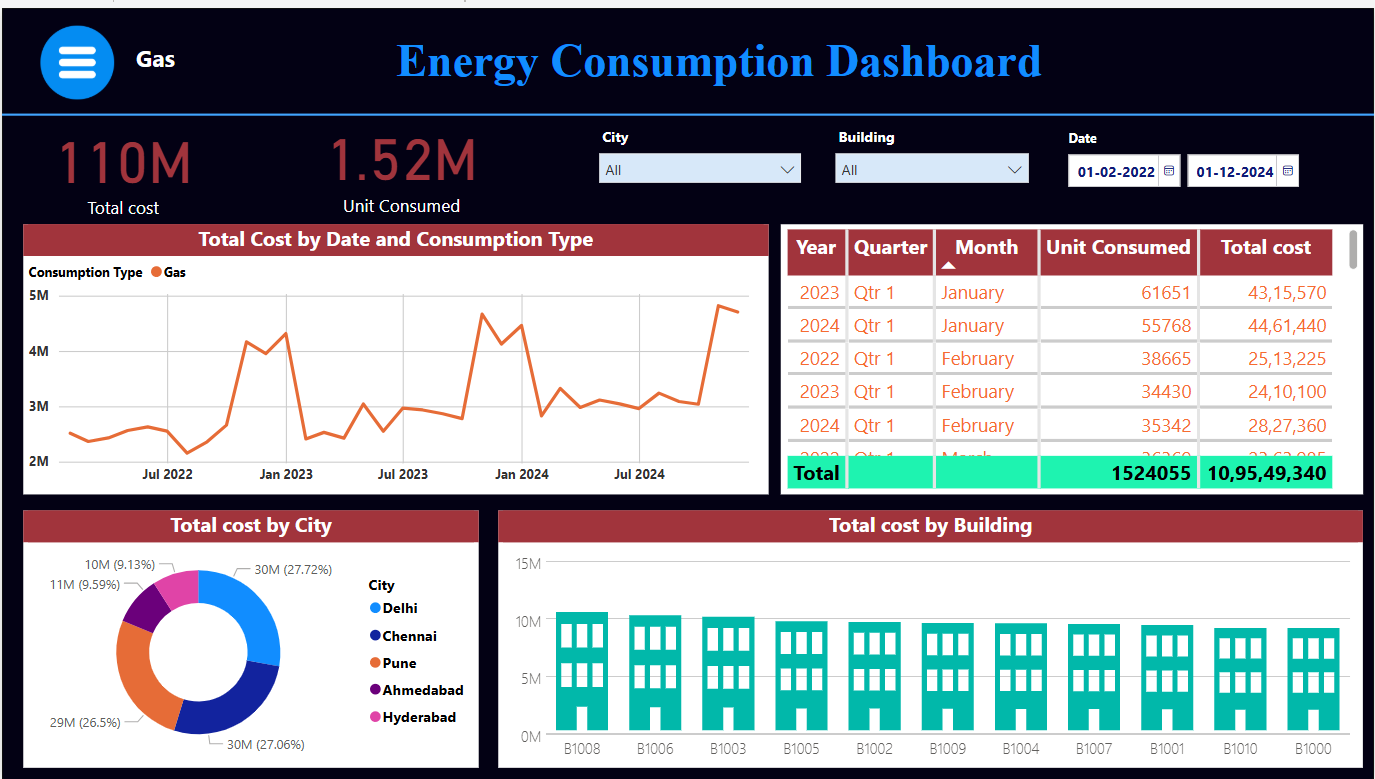

What the dashboard file says about the page in this screenshot:
{"tool":"powerbi","page":{"name":"Gas","canvas":[1280,720],"ordinal":3},"visuals":[{"type":"shape","box":[0,81.4,1280,35.7],"z":0},{"type":"image","box":[20,11.4,100,78.6],"z":1000},{"type":"textbox","box":[280,20,778.3,60],"z":2000},{"type":"textbox","box":[120,26.7,160,45],"z":3000},{"type":"card","fields":{"Values":["Energy Consumption.Total cost"]},"box":[0,95,226.7,106.7],"z":4000},{"type":"card","fields":{"Values":["Energy Consumption.Unit Consumed"]},"box":[265,90,216.7,111.7],"z":5000},{"type":"slicer","fields":{"Values":["Energy Consumption.Building"]},"box":[766.7,106.7,200,78.3],"z":6000},{"type":"slicer","fields":{"Values":["Building Master.City"]},"box":[546.7,106.7,208.3,78.3],"z":7000},{"type":"slicer","fields":{"Values":["Energy Consumption.Date"]},"box":[981.7,108.3,298.3,63.3],"z":8000},{"type":"donutChart","fields":{"Y":["Energy Consumption.Total cost"],"Category":["Building Master.City"]},"box":[20,468.3,425,240],"z":9000},{"type":"PBI_CV_73744D90_4DC9_4F18_8BA5_EE8FA5C98035","fields":{"Category":["Building Master.Building"],"Values":["Energy Consumption.Total cost"]},"box":[463.3,468.3,806.7,240],"z":10000},{"type":"lineChart","title":"Total Cost by Date and Consumption Type","fields":{"Category":["Energy Consumption.Date"],"Y":["Energy Consumption.Total cost"],"Series":["Energy Consumption.Consumption Type"]},"box":[20,201.7,695,251.7],"z":11000},{"type":"tableEx","title":"Total Cost by Date and Consumption Type","fields":{"Values":["Energy Consumption.Date.Variation.Date Hierarchy.Year","Energy Consumption.Date.Variation.Date Hierarchy.Quarter","Energy Consumption.Date.Variation.Date Hierarchy.Month","Energy Consumption.Unit Consumed","Energy Consumption.Total cost"]},"box":[726.7,201.7,543.3,251.7],"z":12000},{"type":"actionButton","box":[29.8,11.3,83.6,79.4],"z":15000}]}

Visuals, with their boxes in screenshot pixels (x1, y1, x2, y2), scaled from the page's 1280x720 canvas onto the 1375x779 screenshot:
shape: bbox=[0, 88, 1374, 127]
image: bbox=[21, 12, 129, 97]
textbox: bbox=[301, 22, 1137, 87]
textbox: bbox=[129, 29, 301, 78]
card - Energy Consumption.Total cost: bbox=[0, 103, 244, 218]
card - Energy Consumption.Unit Consumed: bbox=[285, 97, 517, 218]
slicer - Energy Consumption.Building: bbox=[824, 115, 1038, 200]
slicer - Building Master.City: bbox=[587, 115, 811, 200]
slicer - Energy Consumption.Date: bbox=[1055, 117, 1374, 186]
donutChart - Energy Consumption.Total cost x Building Master.City: bbox=[21, 507, 478, 766]
PBI_CV_73744D90_4DC9_4F18_8BA5_EE8FA5C98035 - Building Master.Building x Energy Consumption.Total cost: bbox=[498, 507, 1364, 766]
"Total Cost by Date and Consumption Type" lineChart: bbox=[21, 218, 768, 491]
"Total Cost by Date and Consumption Type" tableEx: bbox=[781, 218, 1364, 491]
actionButton: bbox=[32, 12, 122, 98]
